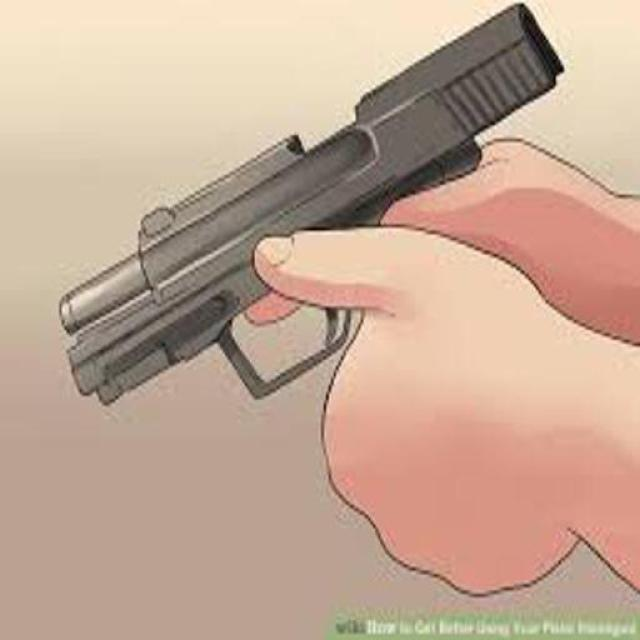pistol: (41, 16, 567, 388)
